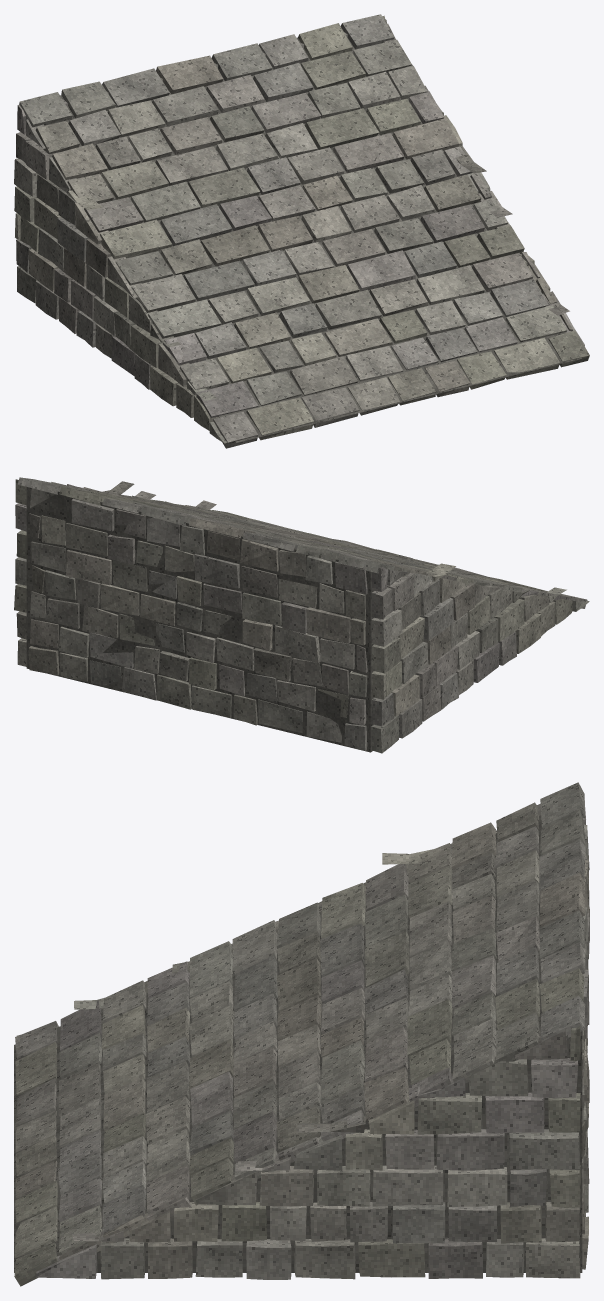
File: rampa_pedra_g.glb
3 views of the same model, one above another, from view 1: azimuth 30°, elevation 25°; view 2: azimuth 150°, elevation 25°; view 3: azimuth 270°, elevation 25° (orthographic). The views are drawn at different scales.
Parts seen in each view (by area): view 1: rampa_pedra_g_pedra; view 2: rampa_pedra_g_pedra; view 3: rampa_pedra_g_pedra.
Boxes of the visible parts, bbox=[...] form: rampa_pedra_g_pedra: bbox=[14, 14, 589, 448]; rampa_pedra_g_pedra: bbox=[14, 477, 589, 753]; rampa_pedra_g_pedra: bbox=[14, 782, 589, 1286].
Bounding box in the file's own units: 6.14 × 3.12 × 6.08.
Materials: 1 (1 with a texture image).
